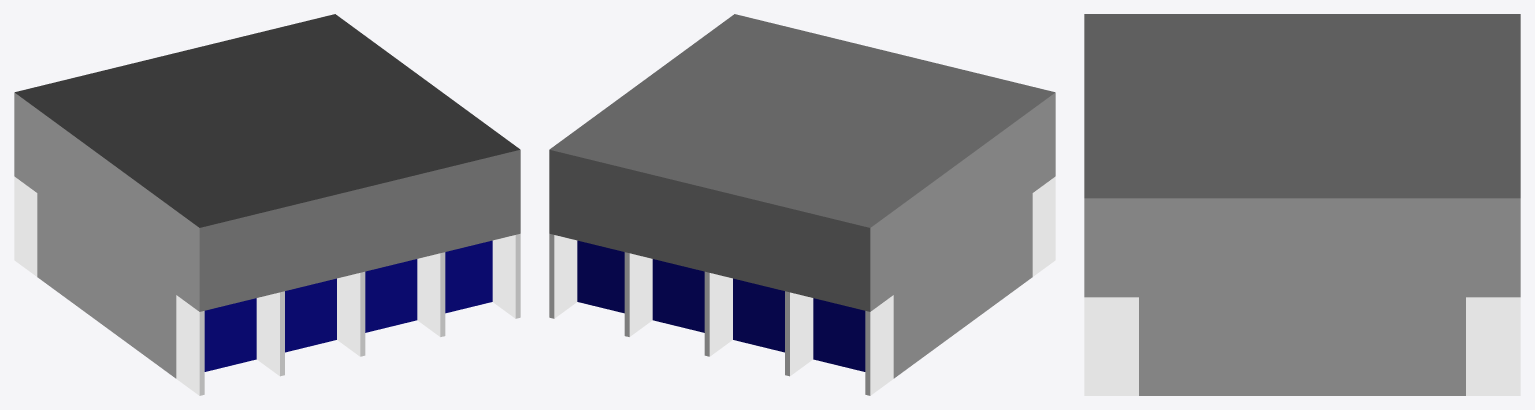
File: Kontor.obj
3 renders of one model, left to right at view 1: azimuth 30°, elevation 25°; view 2: azimuth 150°, elevation 25°; view 3: azimuth 270°, elevation 25°, orthographic. The views are drawn at different scales.
Size of the model in its own units: 4 by 2 by 4.
Materials: 2 (2 with a texture image).
